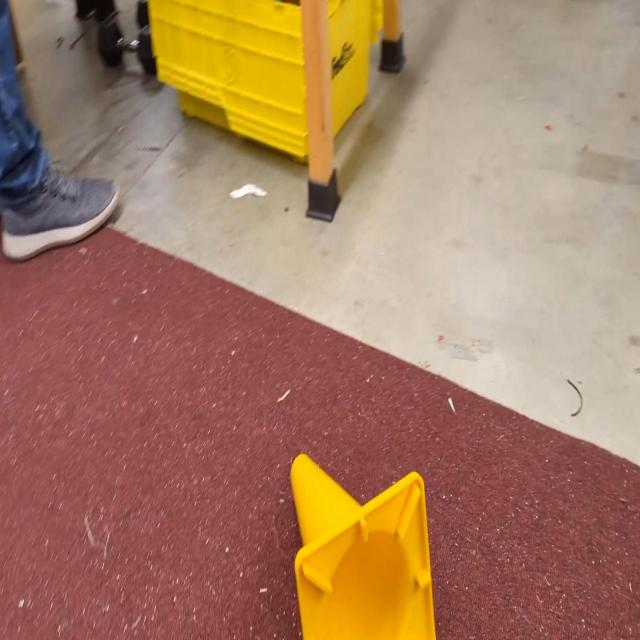frc_cone: (290, 454, 436, 640)
